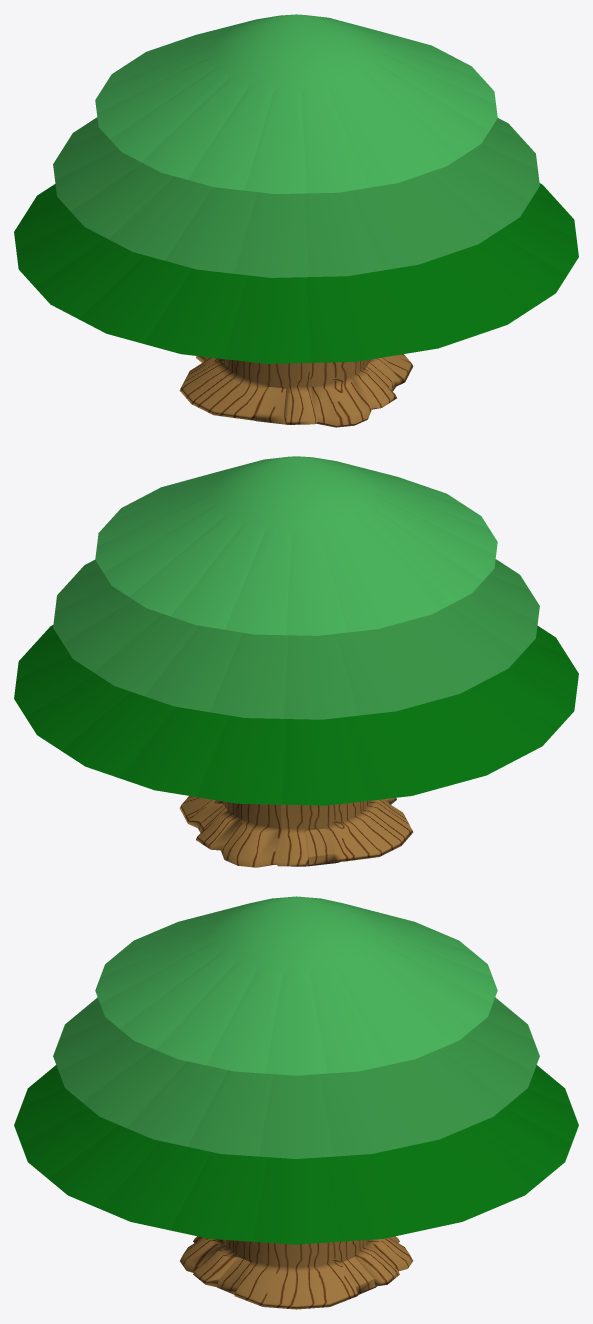
The model's file is Tree3.fbx.
3 views of the same model, one above another, from view 1: azimuth 30°, elevation 25°; view 2: azimuth 150°, elevation 25°; view 3: azimuth 270°, elevation 25° (orthographic).
Visible parts, largest first — view 1: polySurface14; view 2: polySurface14; view 3: polySurface14.
Boxes of the visible parts, x1,y1,x2,y2 form: polySurface14: (14,14,578,427); polySurface14: (14,456,578,867); polySurface14: (14,896,578,1309).
Bounding box in the file's own units: 3.09 × 2.21 × 3.09.
